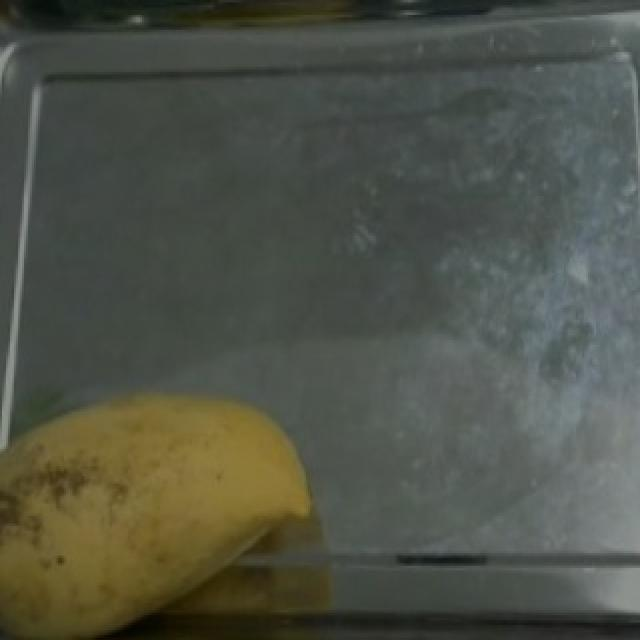fruit: (0, 362, 342, 640)
